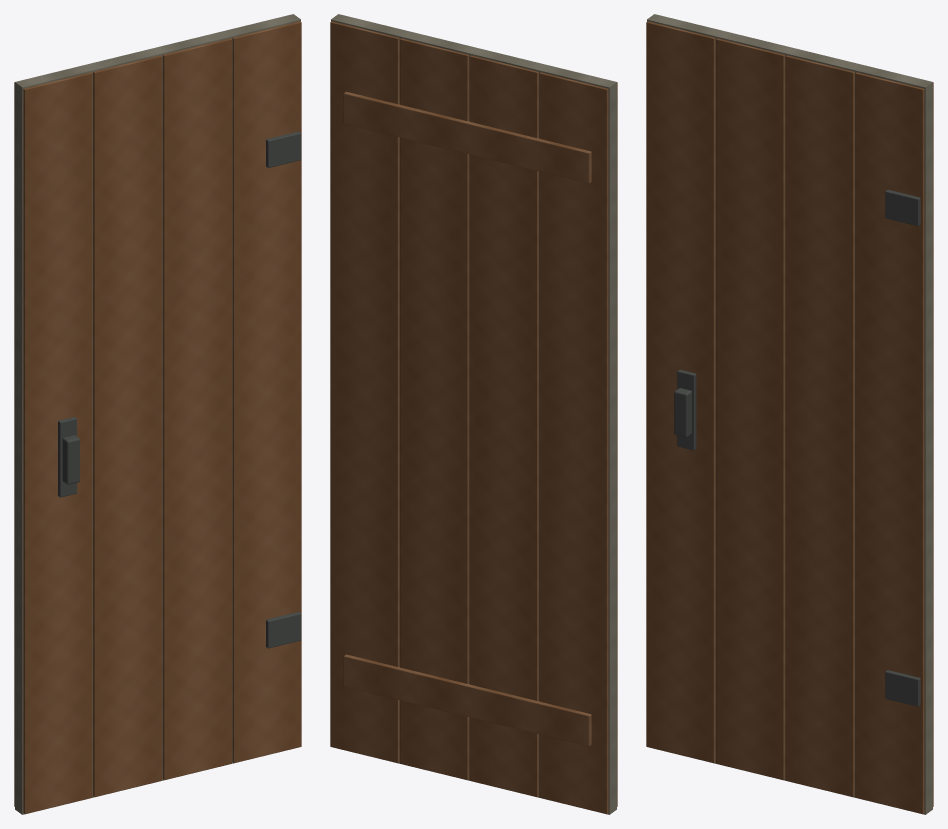
The model's file is MRP_WindowShutter_Double_Right.fbx.
3 renders of one model, left to right at view 1: azimuth 30°, elevation 25°; view 2: azimuth 150°, elevation 25°; view 3: azimuth 330°, elevation 25°, orthographic.
Parts seen in each view (by area): view 1: MRP_WindowShutter_Double_Right_Hinge_Mesh; view 2: MRP_WindowShutter_Double_Right_Hinge_Mesh; view 3: MRP_WindowShutter_Double_Right_Hinge_Mesh.
Part boxes in pixels (box(x1,y1,x2,y2)): MRP_WindowShutter_Double_Right_Hinge_Mesh: box(14, 14, 301, 814); MRP_WindowShutter_Double_Right_Hinge_Mesh: box(330, 14, 617, 814); MRP_WindowShutter_Double_Right_Hinge_Mesh: box(646, 14, 933, 814).
Bounding box in the file's own units: 0.425 × 1.06 × 0.054.
